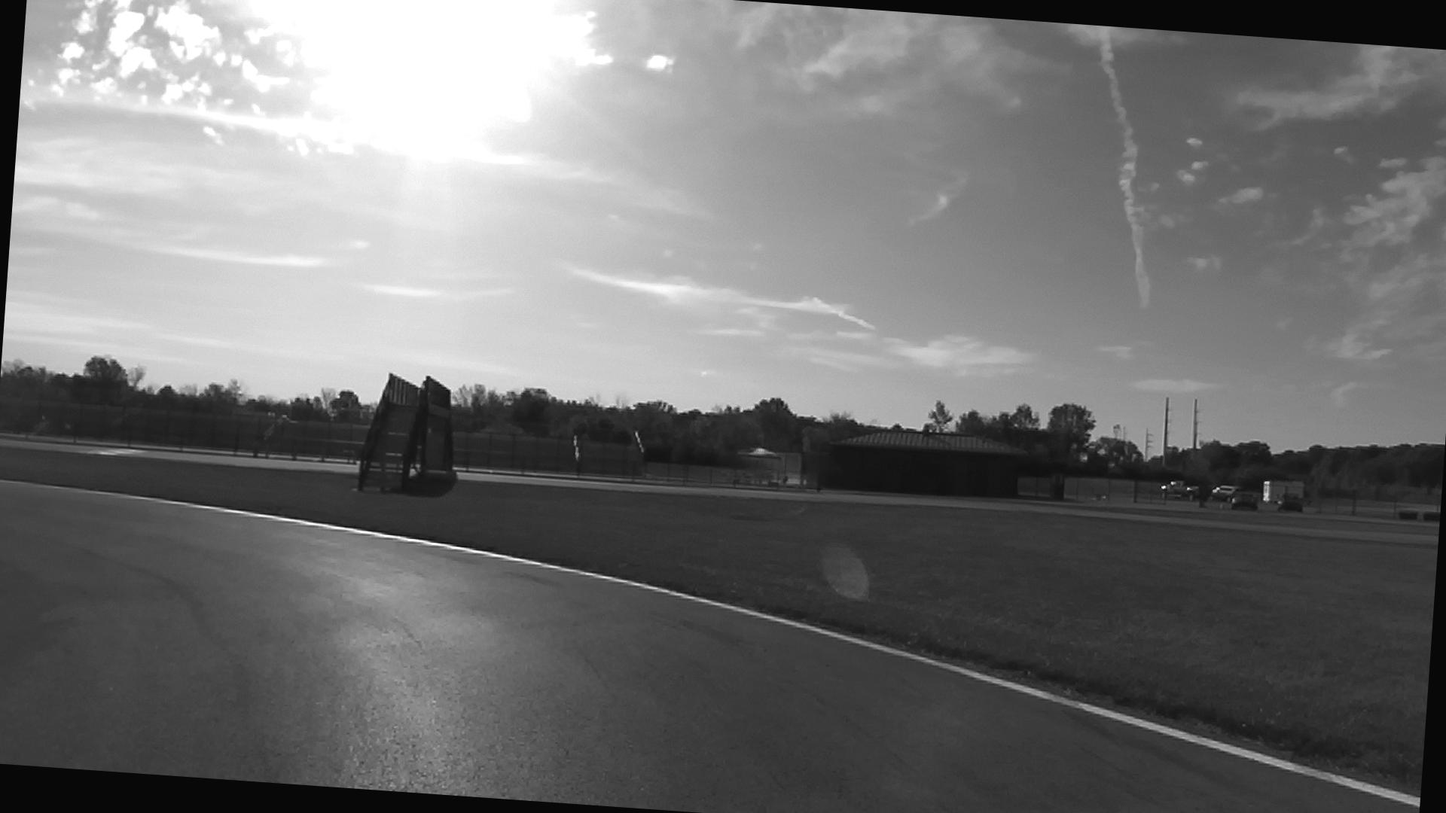white-line: (39, 485, 1421, 808)
